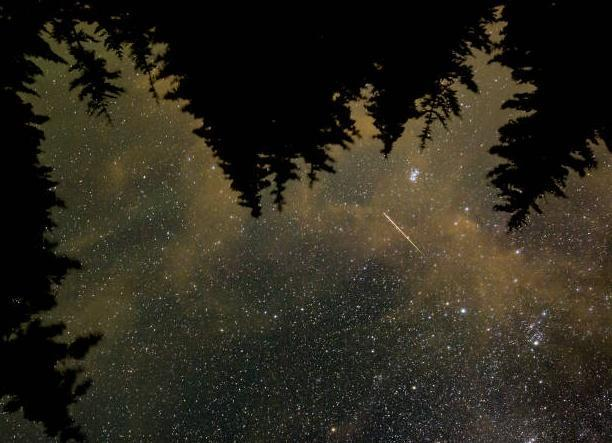meteorite: (362, 168, 433, 262)
